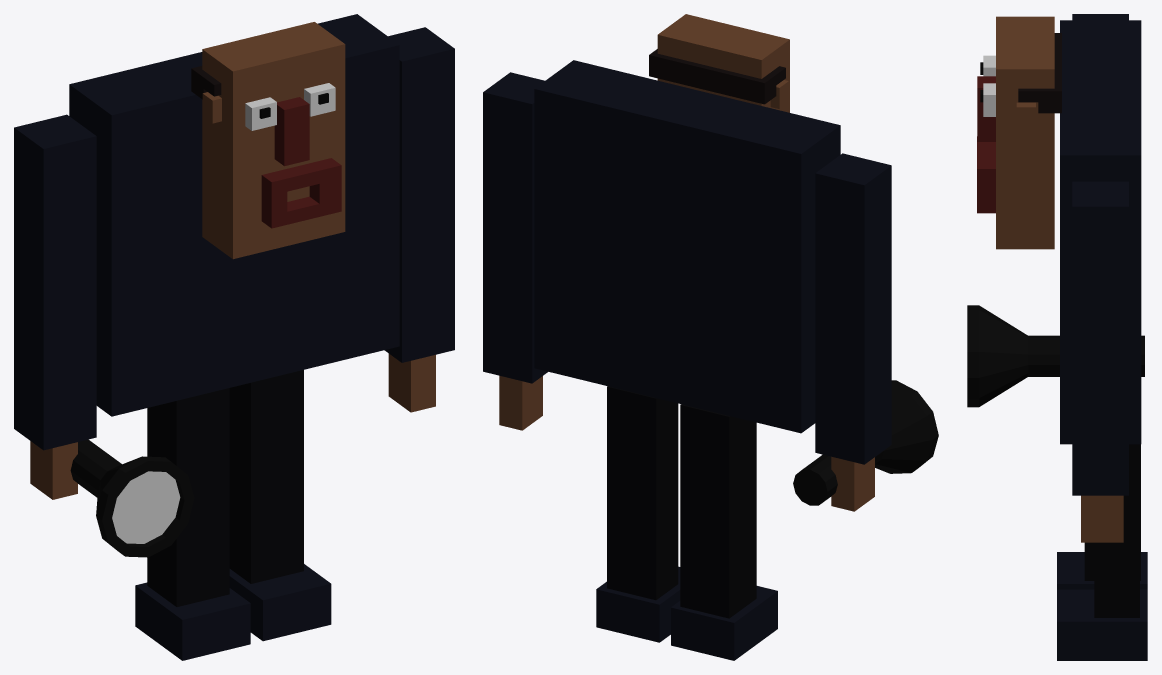
The model's file is man.obj.
The picture shows the model from 3 angles, left to right: view 1: azimuth 30°, elevation 25°; view 2: azimuth 150°, elevation 25°; view 3: azimuth 270°, elevation 25°; orthographic projection. The views are drawn at different scales.
Parts seen in each view (by area): view 1: Cube, Cube.003, Cube.001, Cube.002, Cube.004, Cube.005, Cylinder, Cube.011, Cube.012, Cube.016, Cube.009, Cube.010 (+4 smaller); view 2: Cube, Cube.003, Cube.002, Cube.005, Cube.004, Cube.001, Cylinder, Cube.011, Cube.012, Cube.013, Cube.009, Cube.010; view 3: Cube, Cube.002, Cube.001, Cylinder, Cube.012, Cube.004, Cube.009, Cube.011, Cube.016, Cube.013, Cube.008, Cube.005 (+4 smaller).
Boxes of the visible parts, x1=… form: Cube: x1=69, y1=14, x2=399, y2=416; Cube.003: x1=14, y1=114, x2=96, y2=450; Cube.001: x1=202, y1=22, x2=345, y2=259; Cube.002: x1=384, y1=27, x2=454, y2=362; Cube.004: x1=229, y1=370, x2=303, y2=583; Cube.005: x1=147, y1=388, x2=229, y2=606; Cylinder: x1=70, y1=439, x2=194, y2=557; Cube.011: x1=135, y1=582, x2=250, y2=660; Cube.012: x1=229, y1=564, x2=331, y2=641; Cube.016: x1=261, y1=158, x2=341, y2=228; Cube.009: x1=388, y1=353, x2=435, y2=412; Cube.010: x1=30, y1=441, x2=77, y2=499; Cube: x1=534, y1=60, x2=840, y2=433; Cube.003: x1=815, y1=153, x2=891, y2=464; Cube.002: x1=483, y1=72, x2=547, y2=383; Cube.005: x1=680, y1=404, x2=756, y2=618; Cube.004: x1=607, y1=386, x2=678, y2=600; Cube.001: x1=657, y1=14, x2=789, y2=112; Cylinder: x1=793, y1=380, x2=938, y2=505; Cube.011: x1=671, y1=586, x2=777, y2=660; Cube.012: x1=596, y1=566, x2=680, y2=642; Cube.013: x1=649, y1=49, x2=785, y2=104; Cube.009: x1=499, y1=375, x2=542, y2=430; Cube.010: x1=831, y1=456, x2=874, y2=511; Cube: x1=1060, y1=20, x2=1141, y2=444; Cube.002: x1=1072, y1=181, x2=1128, y2=495; Cube.001: x1=996, y1=16, x2=1054, y2=249; Cylinder: x1=967, y1=305, x2=1144, y2=407; Cube.012: x1=1057, y1=589, x2=1147, y2=660; Cube.004: x1=1094, y1=444, x2=1139, y2=617; Cube.009: x1=1081, y1=495, x2=1123, y2=542; Cube.011: x1=1057, y1=552, x2=1147, y2=589; Cube.016: x1=977, y1=136, x2=995, y2=213; Cube.013: x1=1018, y1=33, x2=1061, y2=113; Cube.008: x1=977, y1=76, x2=995, y2=141; Cube.005: x1=1084, y1=444, x2=1140, y2=580.
Size of the model in its own units: 2.86 by 4.04 by 1.13.
